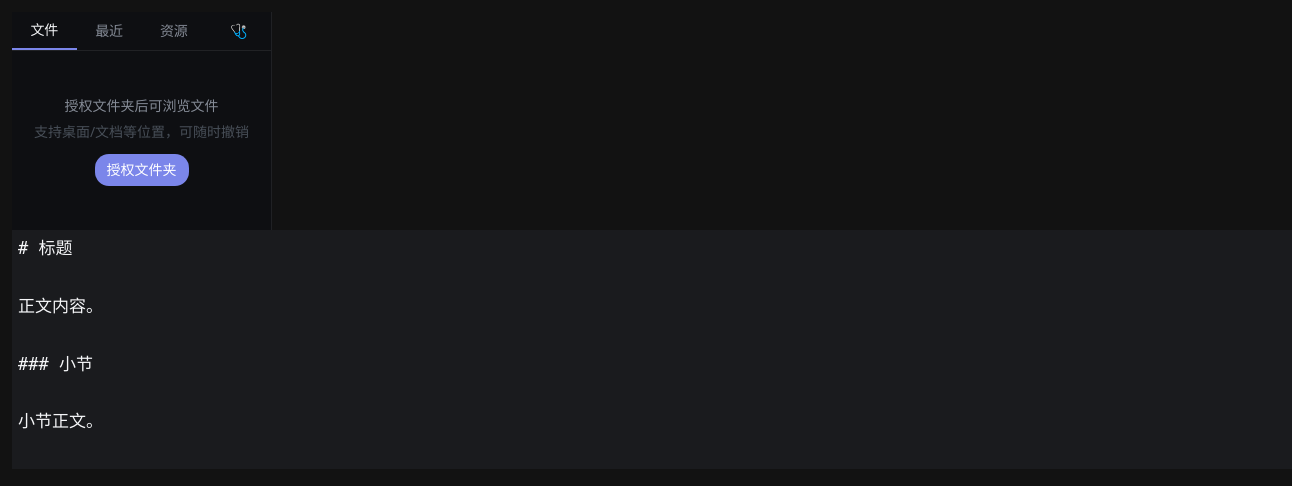
Test: StructurePanel › shows diagnostics when doc has structural issues
Click the tab with test id "left-rail-tab-structure": (239, 31) [206, 12, 271, 50]
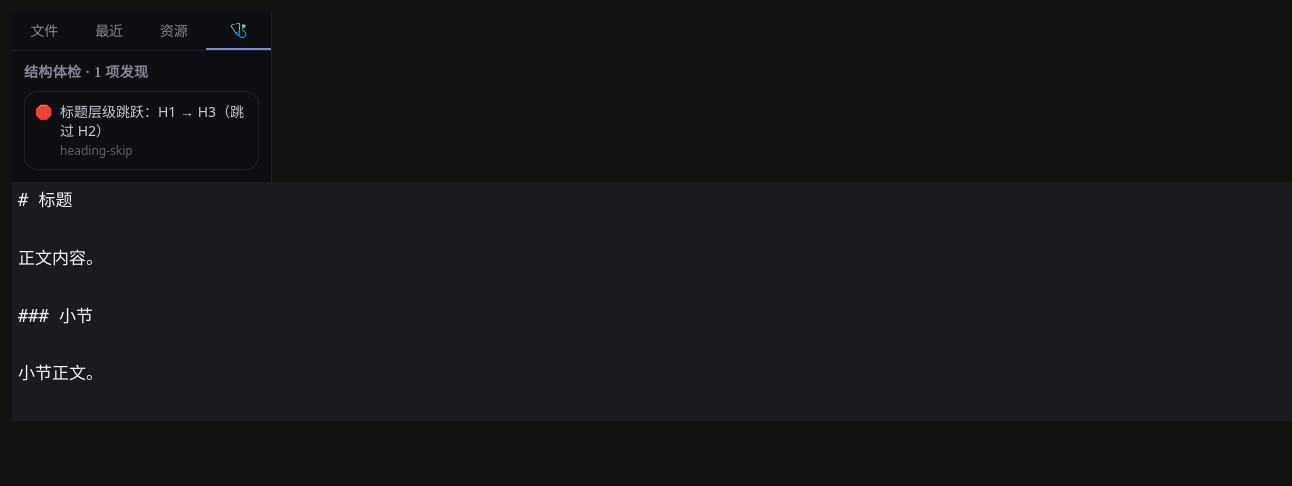
Result: the element with test id "structure-panel" shows "标题层级跳跃" at [24, 91, 259, 170]
